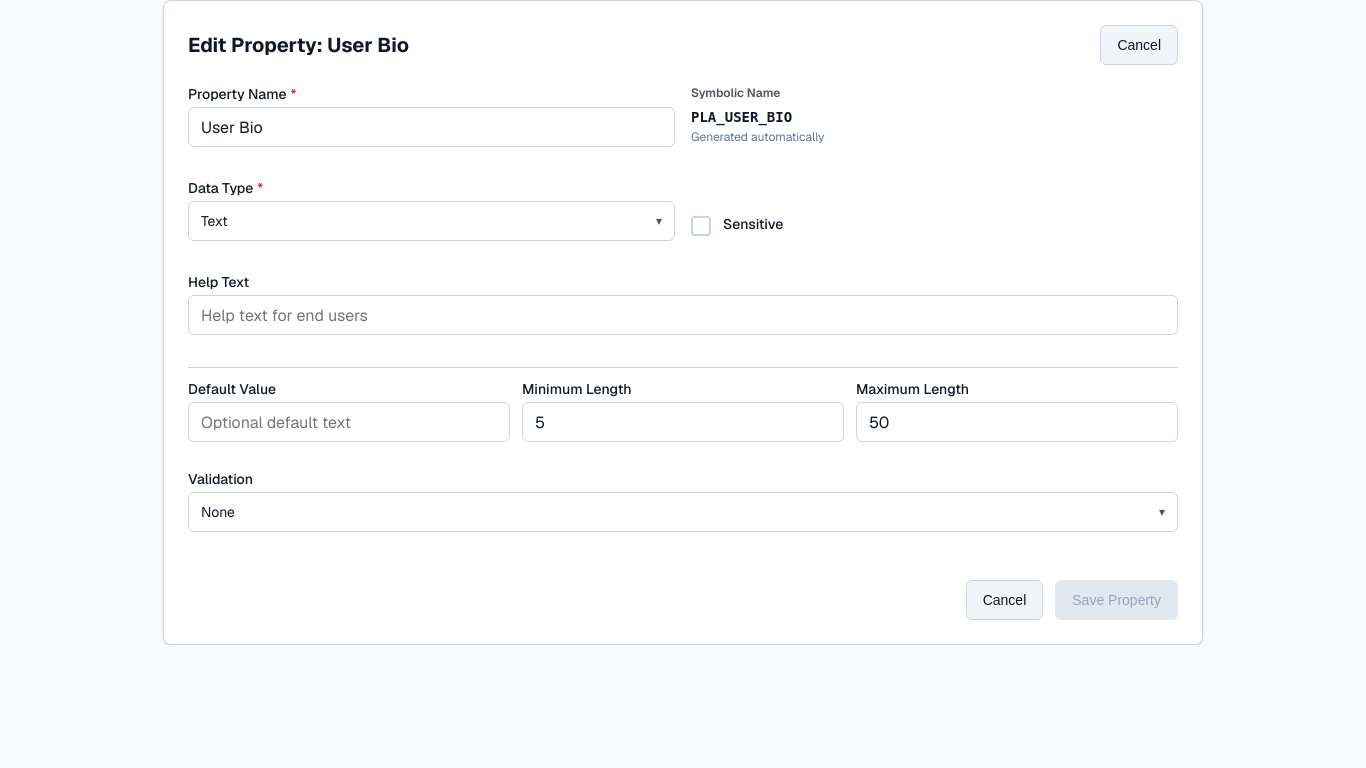
Scenario: INC-03C7 Studio UI Components & Final Data Tab Test Suite › 8. Property Dirty-State Detection & Navigation Reset › choosing Discard Changes in modal restores persisted baseline and closes editor
Replace the text in the number field labelled "Minimum Length" with "30": (683, 422) top-left (522, 402), bottom-right (844, 442)
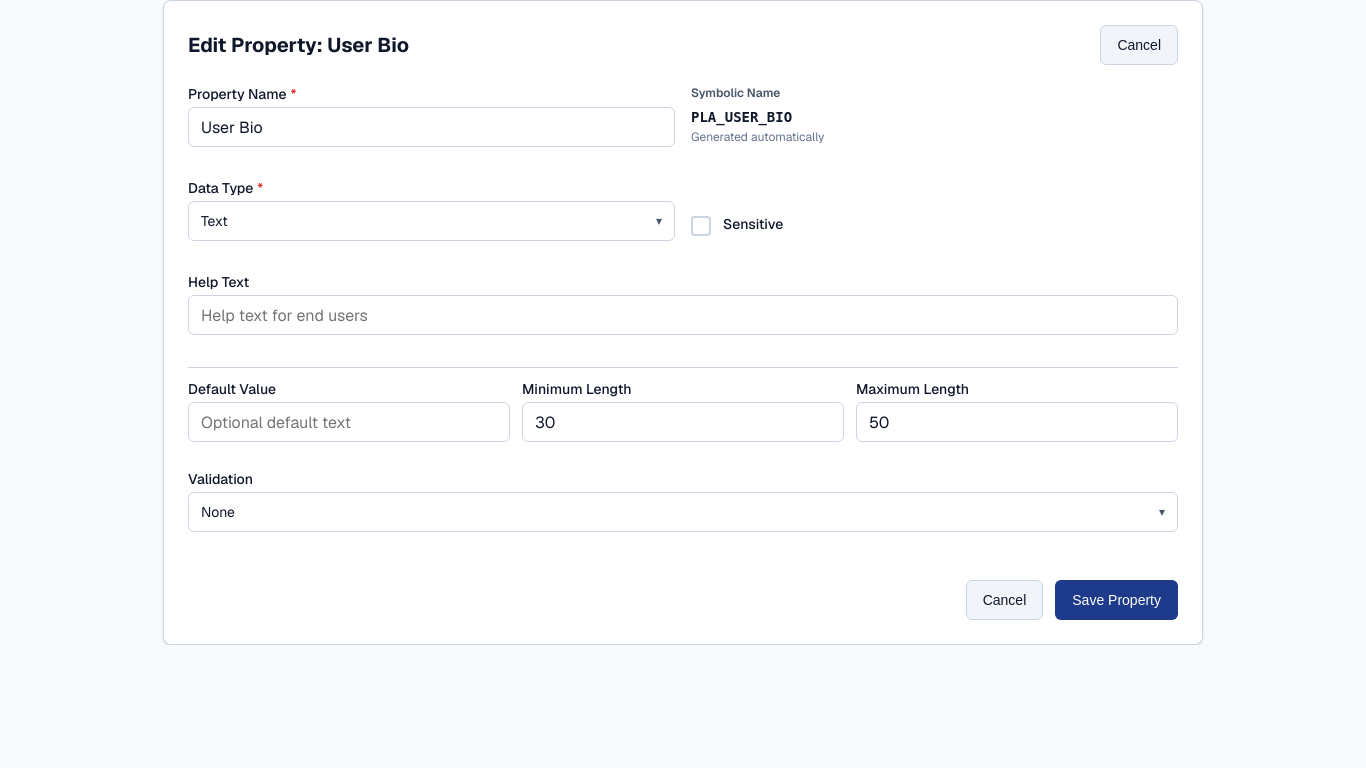
Click the button "Cancel" in the row of "Edit Property: User Bio": (1139, 45) top-left (1100, 25), bottom-right (1178, 65)
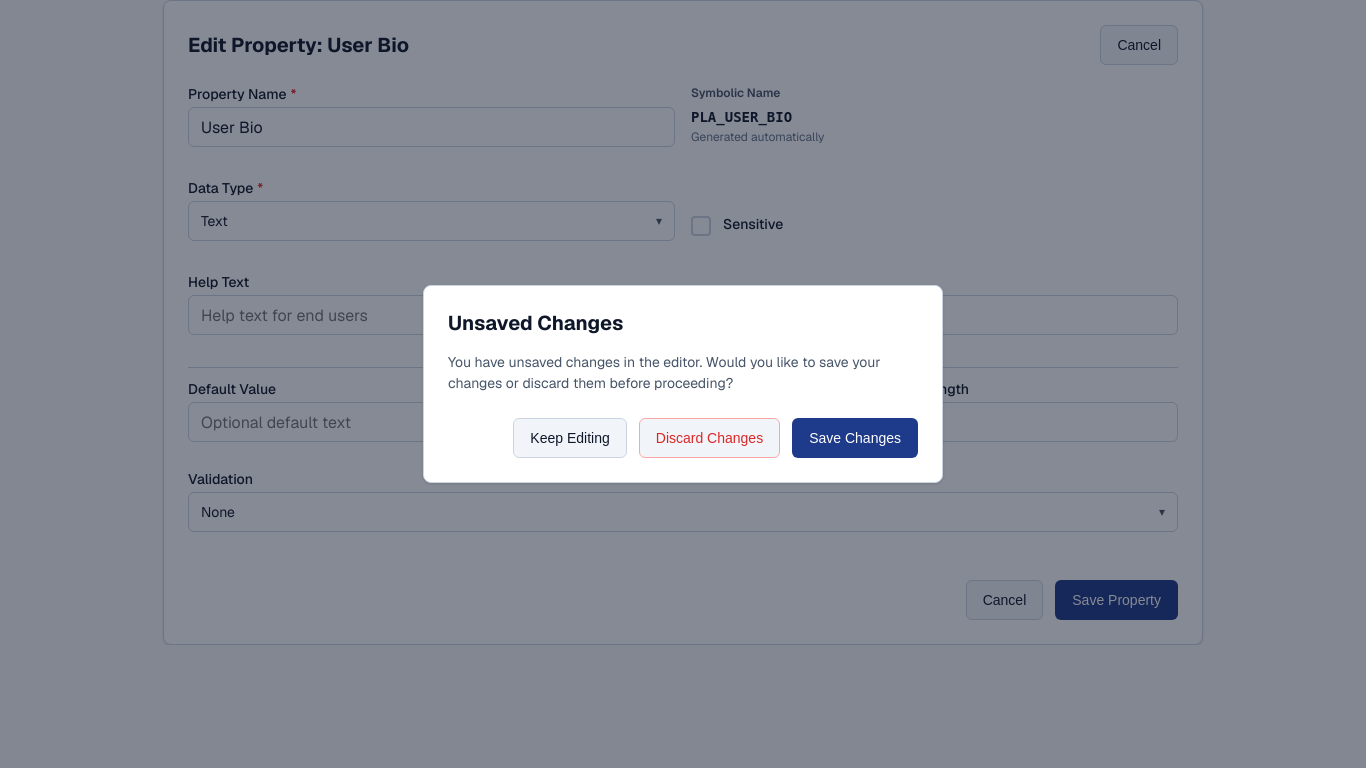
Click the button "Discard Changes": (710, 438) top-left (639, 418), bottom-right (780, 458)
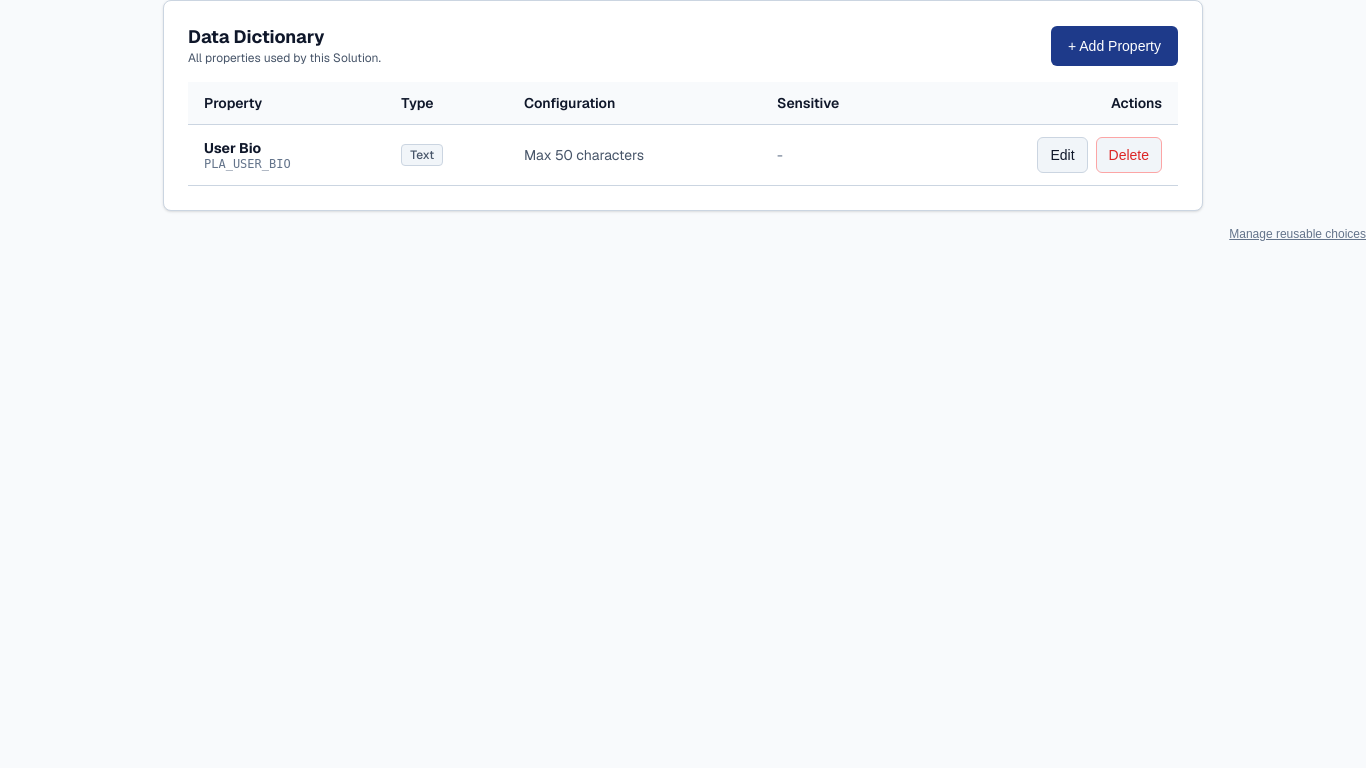
Result: the button "+ Add Property" is shown at top-left (1051, 26), bottom-right (1178, 66)
